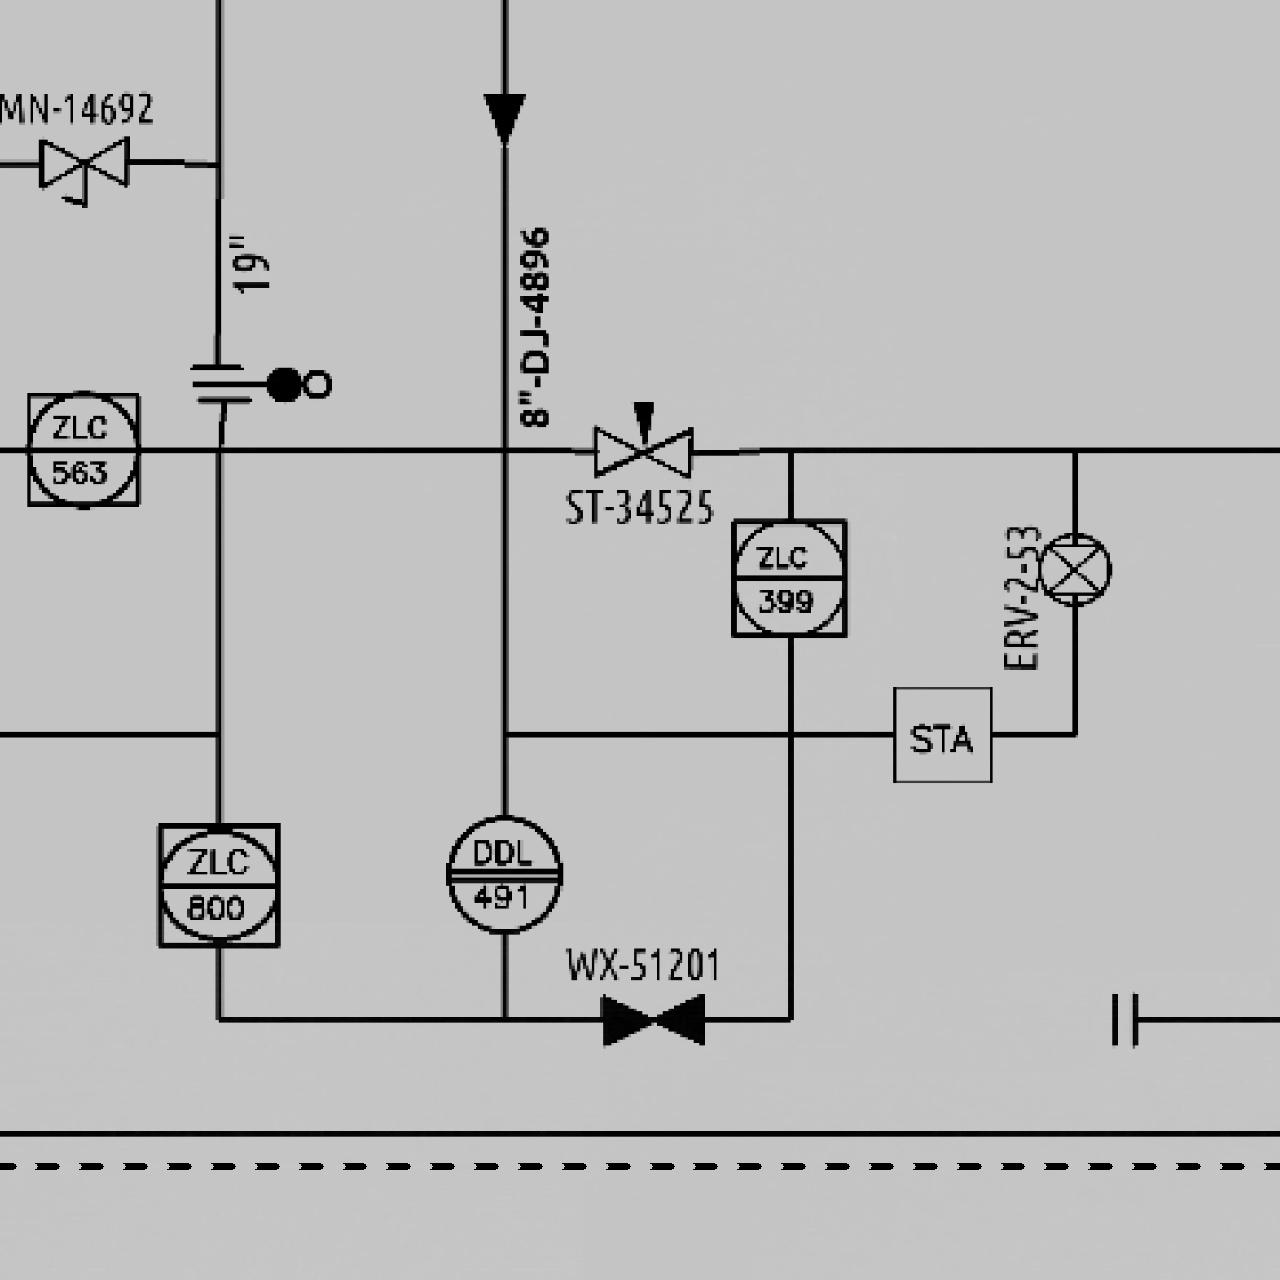Control-Panel: (440, 810, 567, 937)
